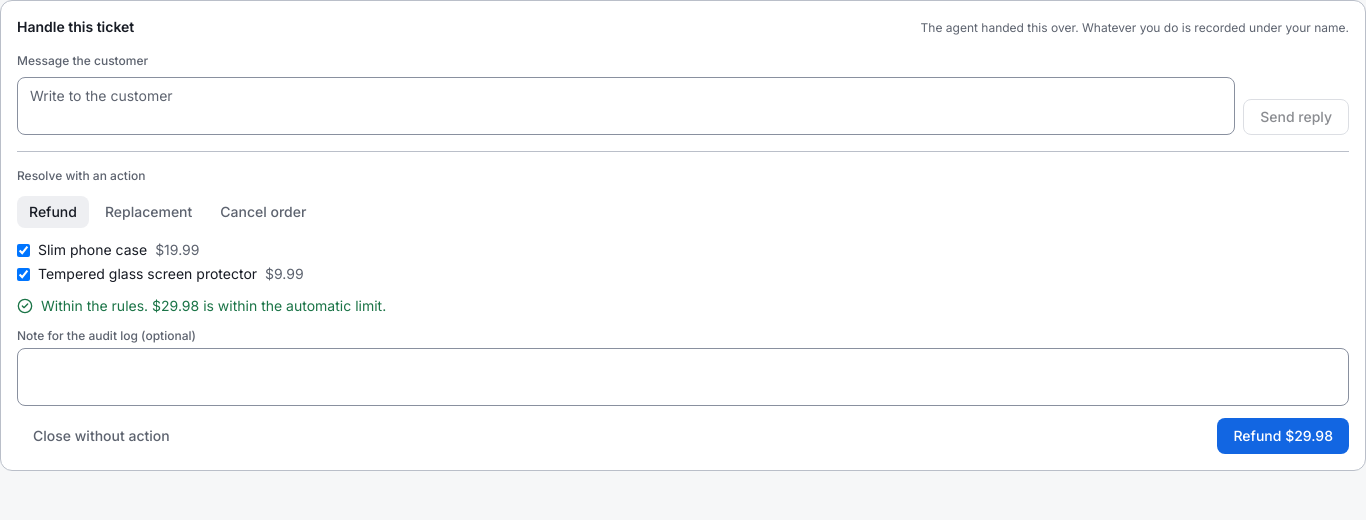
StaffActions › shows the API's reason when an action fails
The image size is (1366, 520).
Click the button "Refund $29.98": (1283, 436) [1218,418,1349,454]
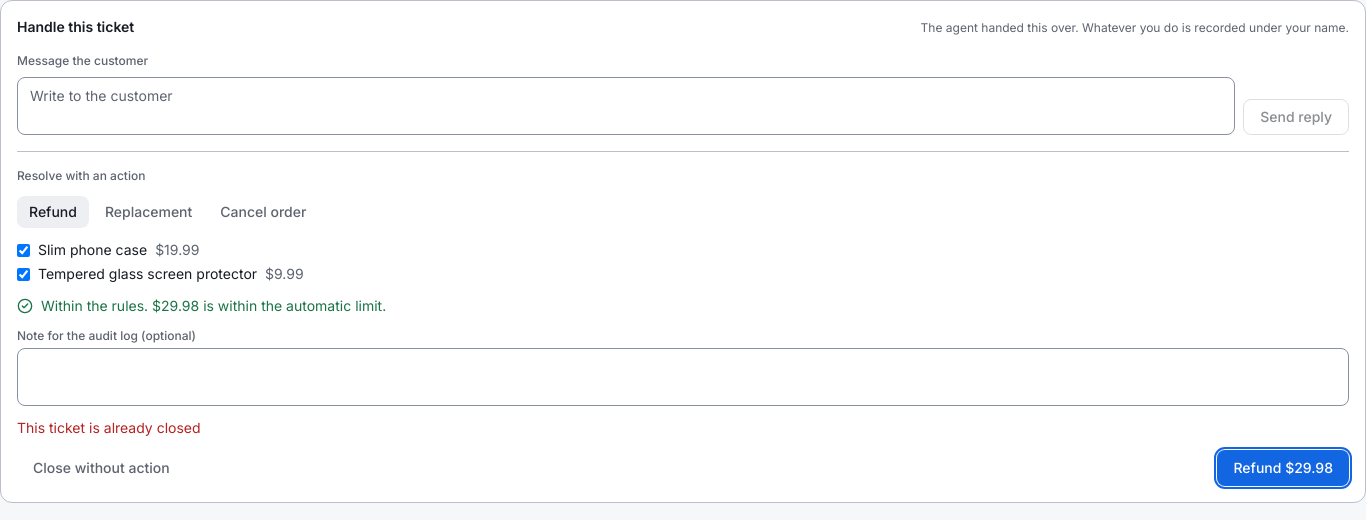
Now the message reads "This ticket is already closed", box [17,419,201,436]
